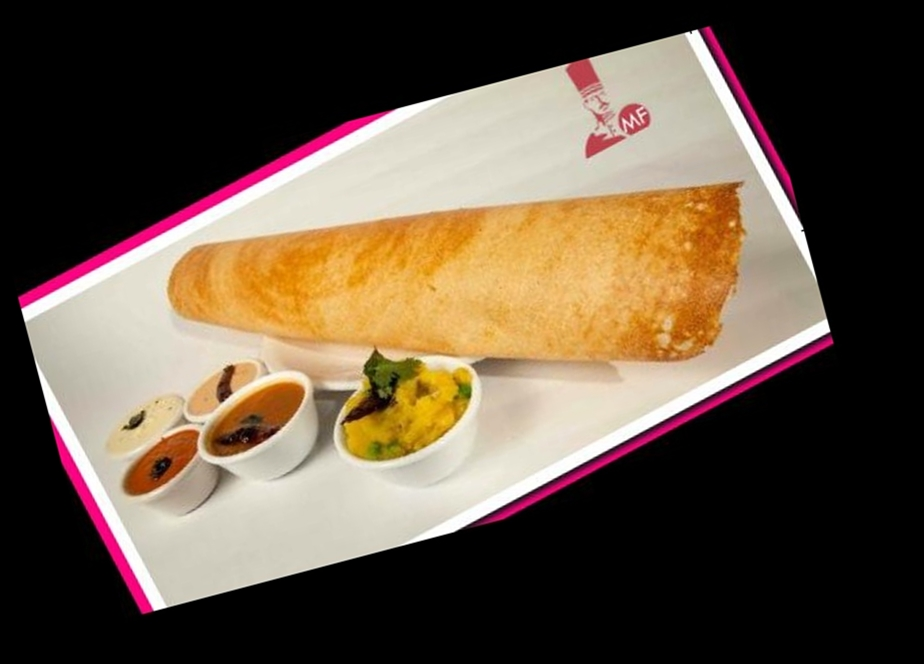dosa: (165, 182, 756, 363)
